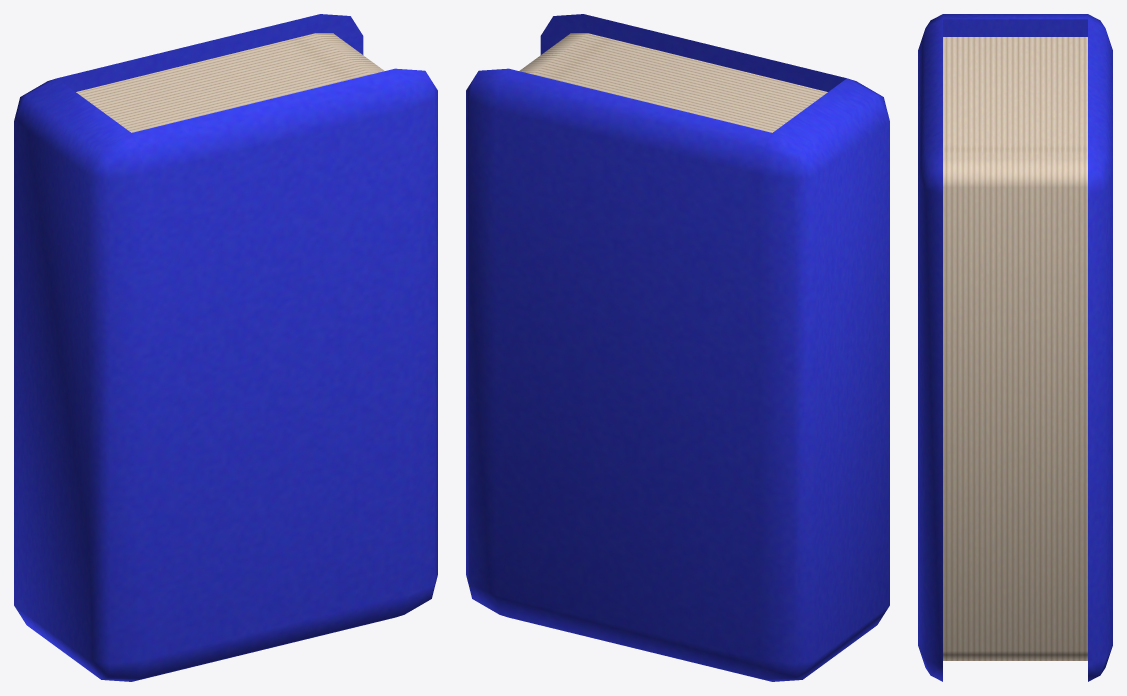
Rendered from Book1.FBX.
3 renders of one model, left to right at view 1: azimuth 30°, elevation 25°; view 2: azimuth 150°, elevation 25°; view 3: azimuth 270°, elevation 25°, orthographic. The views are drawn at different scales.
Parts seen in each view (by area): view 1: Book1; view 2: Book1; view 3: Book1.
Part boxes in pixels (x1=…): Book1: x1=14, y1=14, x2=437, y2=681; Book1: x1=466, y1=14, x2=889, y2=681; Book1: x1=918, y1=14, x2=1112, y2=681.
Size of the model in its own units: 5.18 by 7.79 by 2.58.
